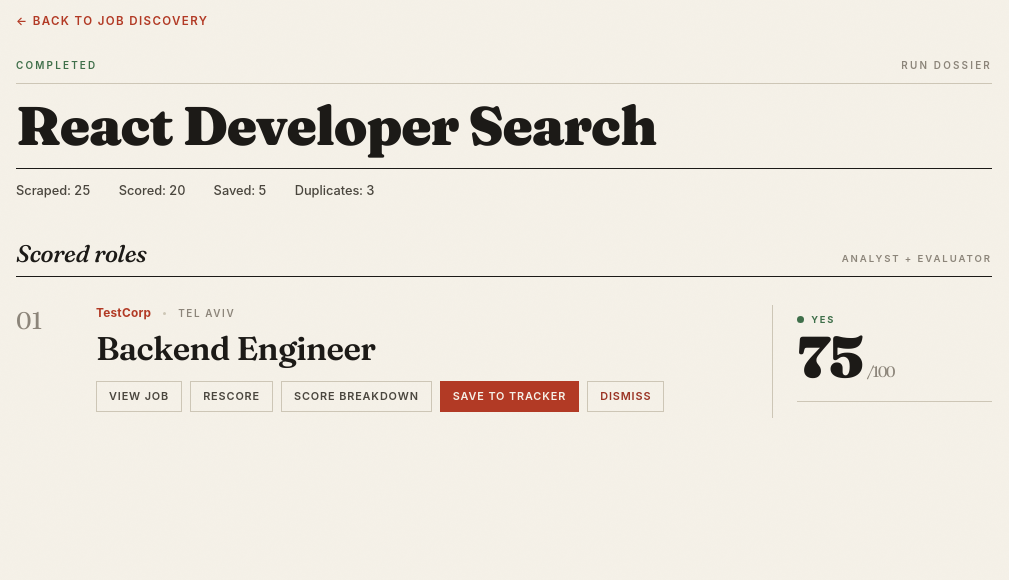
Scenario: RunDetailPage - Signals (green/red flags) in breakdown panel › shows both green and red flags in the Signals section once opened
Step 1. Click the button "Score Breakdown" → {"x": 356, "y": 396}, box [281,381,432,412]
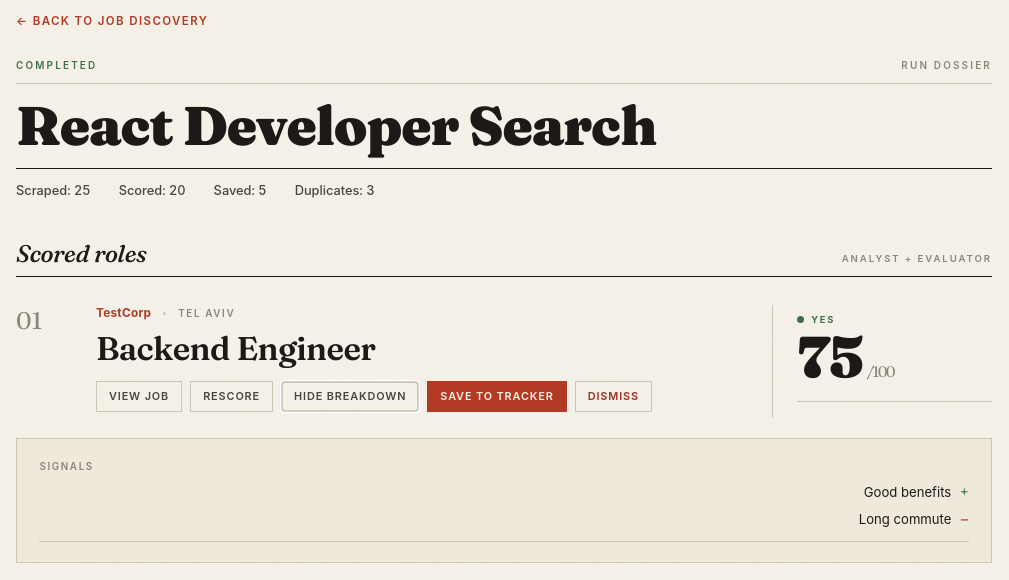
Expected: the text "Good benefits" is shown, [864,483,951,503]
Expected: the text "Long commute" is shown, [859,510,951,530]
